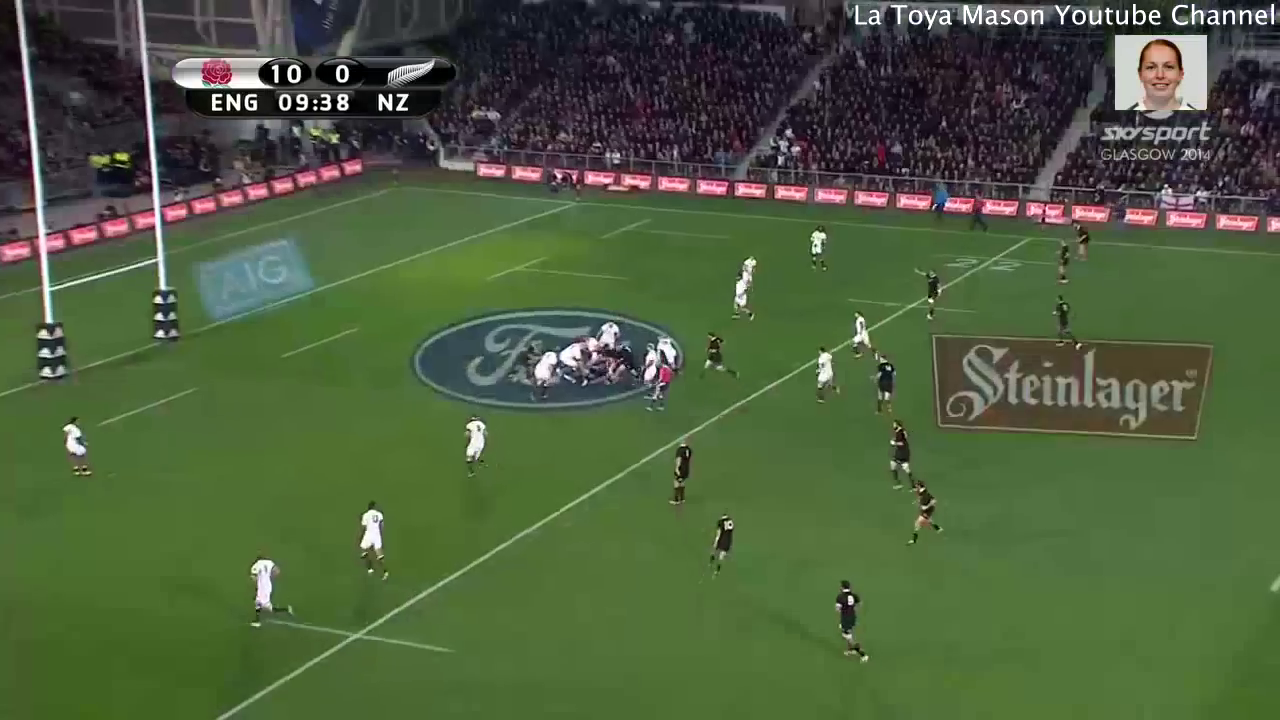player: (242, 553, 296, 635), (828, 575, 875, 665), (353, 495, 393, 585), (904, 480, 946, 551), (55, 414, 96, 482), (697, 328, 745, 382), (702, 509, 736, 582), (885, 418, 918, 493), (457, 414, 493, 480), (1048, 293, 1084, 355), (666, 436, 695, 509), (527, 346, 563, 404), (812, 345, 845, 408), (869, 350, 897, 415), (913, 262, 941, 323), (643, 362, 675, 413), (849, 310, 880, 360), (652, 333, 684, 380), (731, 272, 757, 323), (807, 224, 831, 273), (1052, 236, 1074, 289), (612, 343, 640, 383), (555, 341, 587, 375), (1069, 221, 1092, 263), (638, 341, 658, 388), (595, 318, 622, 350), (738, 254, 758, 295)
post: (23, 127, 185, 384)
ruck: (532, 333, 641, 390)
